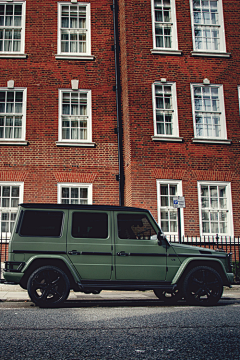other: (3, 200, 236, 309)
